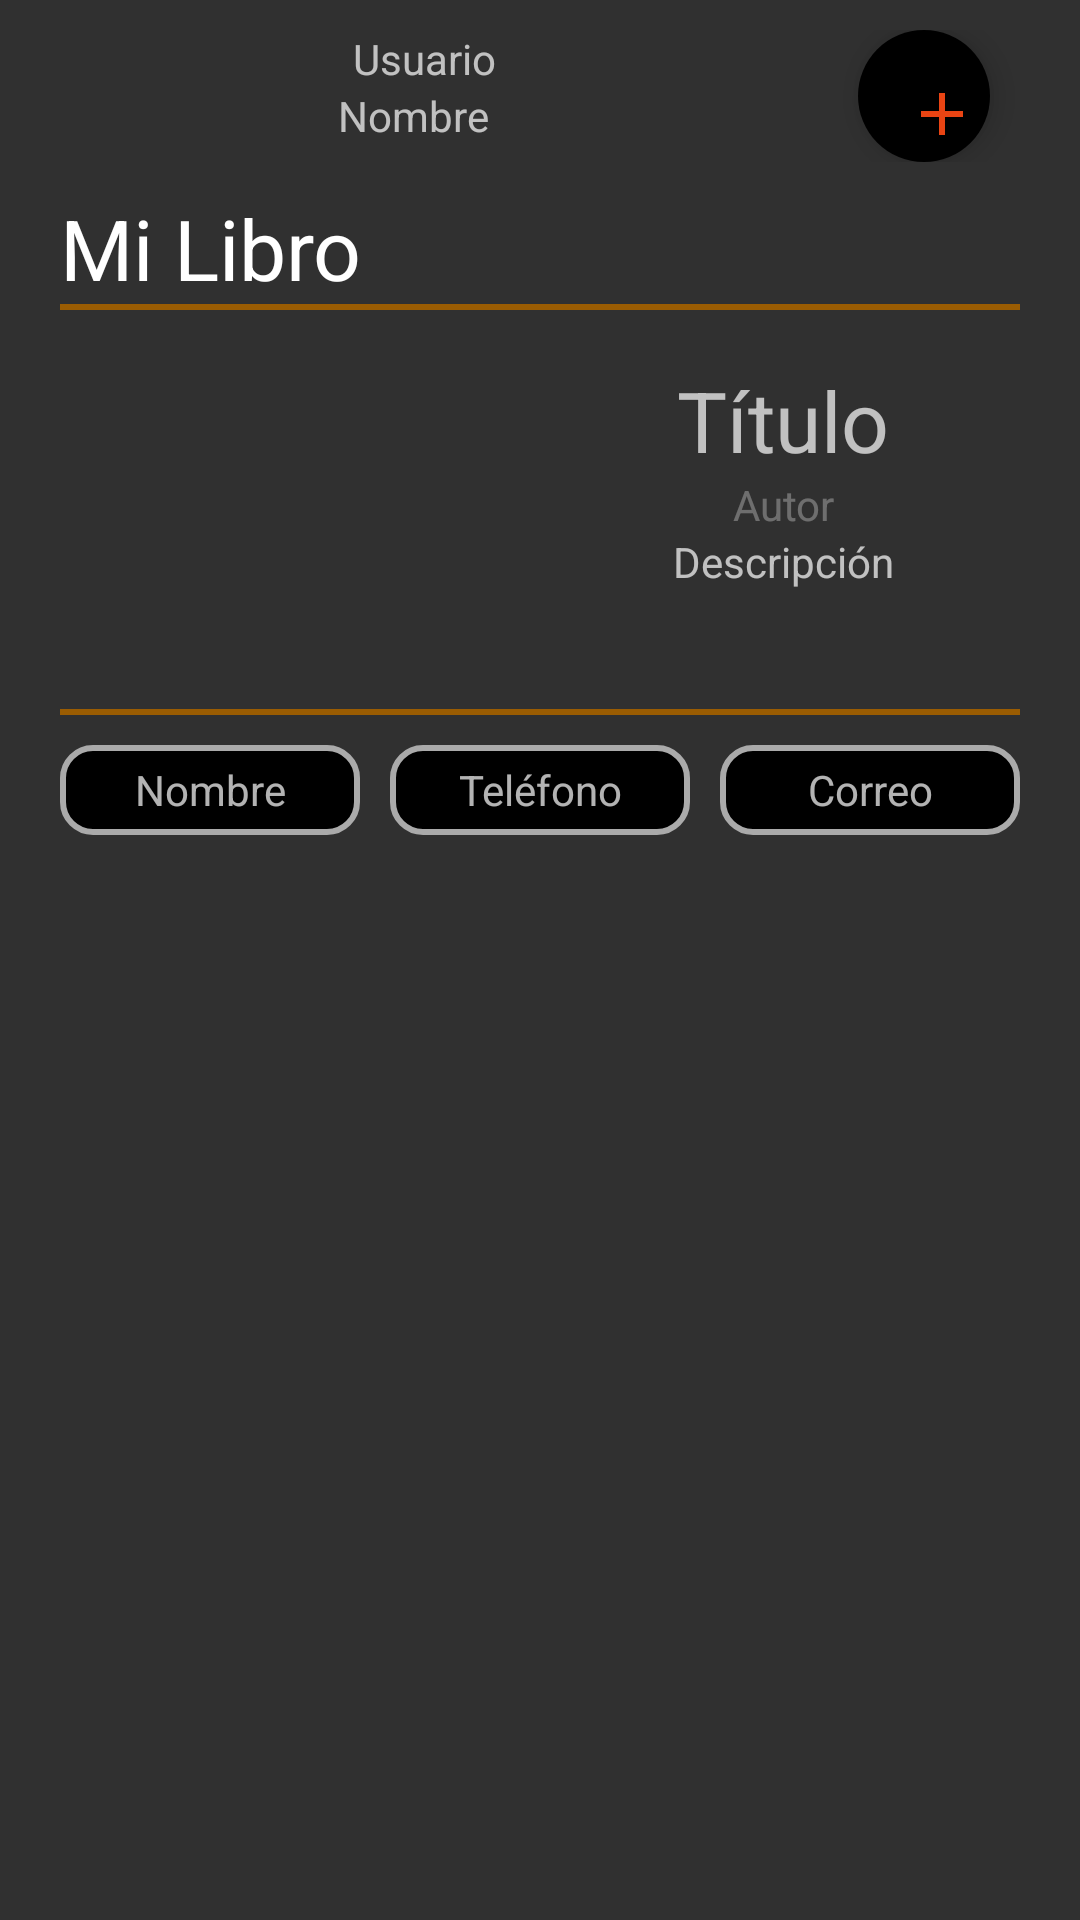

Named icons in this screenshot (1080×1920) and their centers, (x,y):
mas: (924,96)
